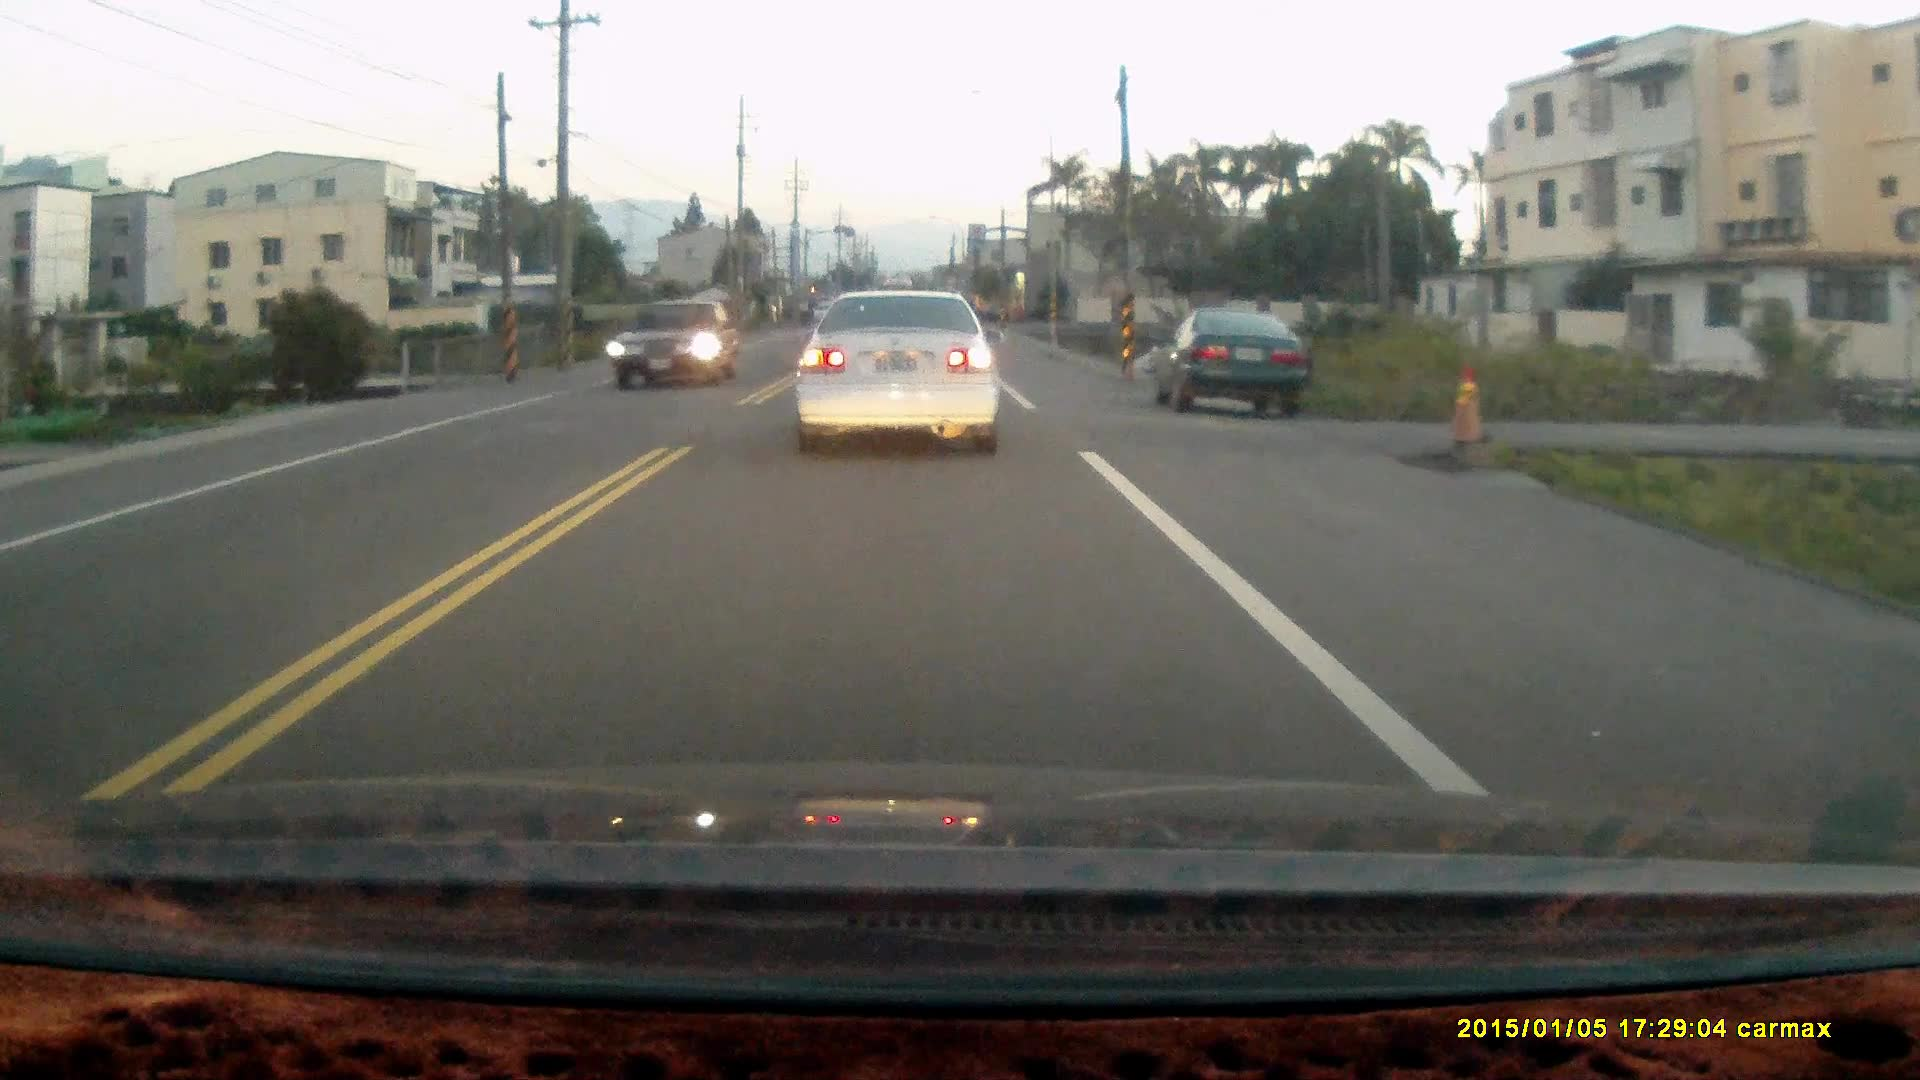vehicle: (789, 284, 1005, 454), (1162, 303, 1316, 417), (611, 295, 735, 388)
